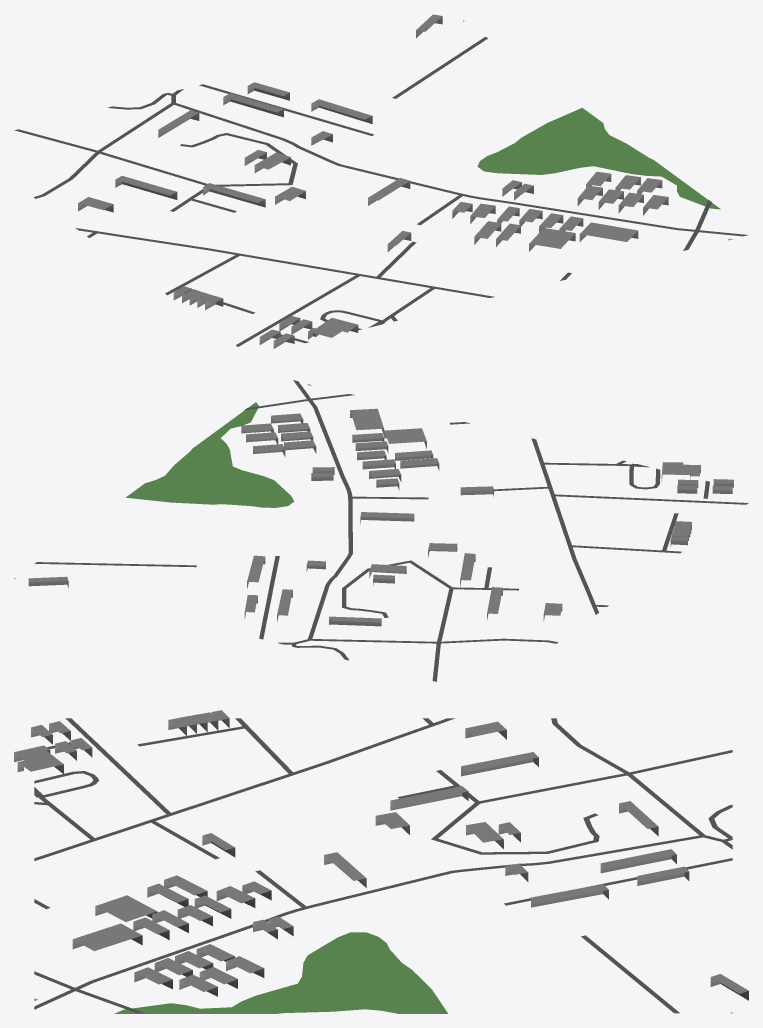
3 renders of one model, top to bottom at view 1: azimuth 30°, elevation 25°; view 2: azimuth 150°, elevation 25°; view 3: azimuth 270°, elevation 25°, orthographic. The views are drawn at different scales.
Parts seen in each view (by area): view 1: ground, building; view 2: ground, building; view 3: ground, building.
Boxes of the visible parts, box(x1,y1,x2,y2) form: ground: box(14, 20, 747, 346); building: box(78, 14, 668, 348); ground: box(14, 380, 748, 681); building: box(28, 408, 733, 626); ground: box(34, 718, 732, 1013); building: box(14, 710, 748, 1000).
Size of the model in its own units: 500 by 8 by 526.
